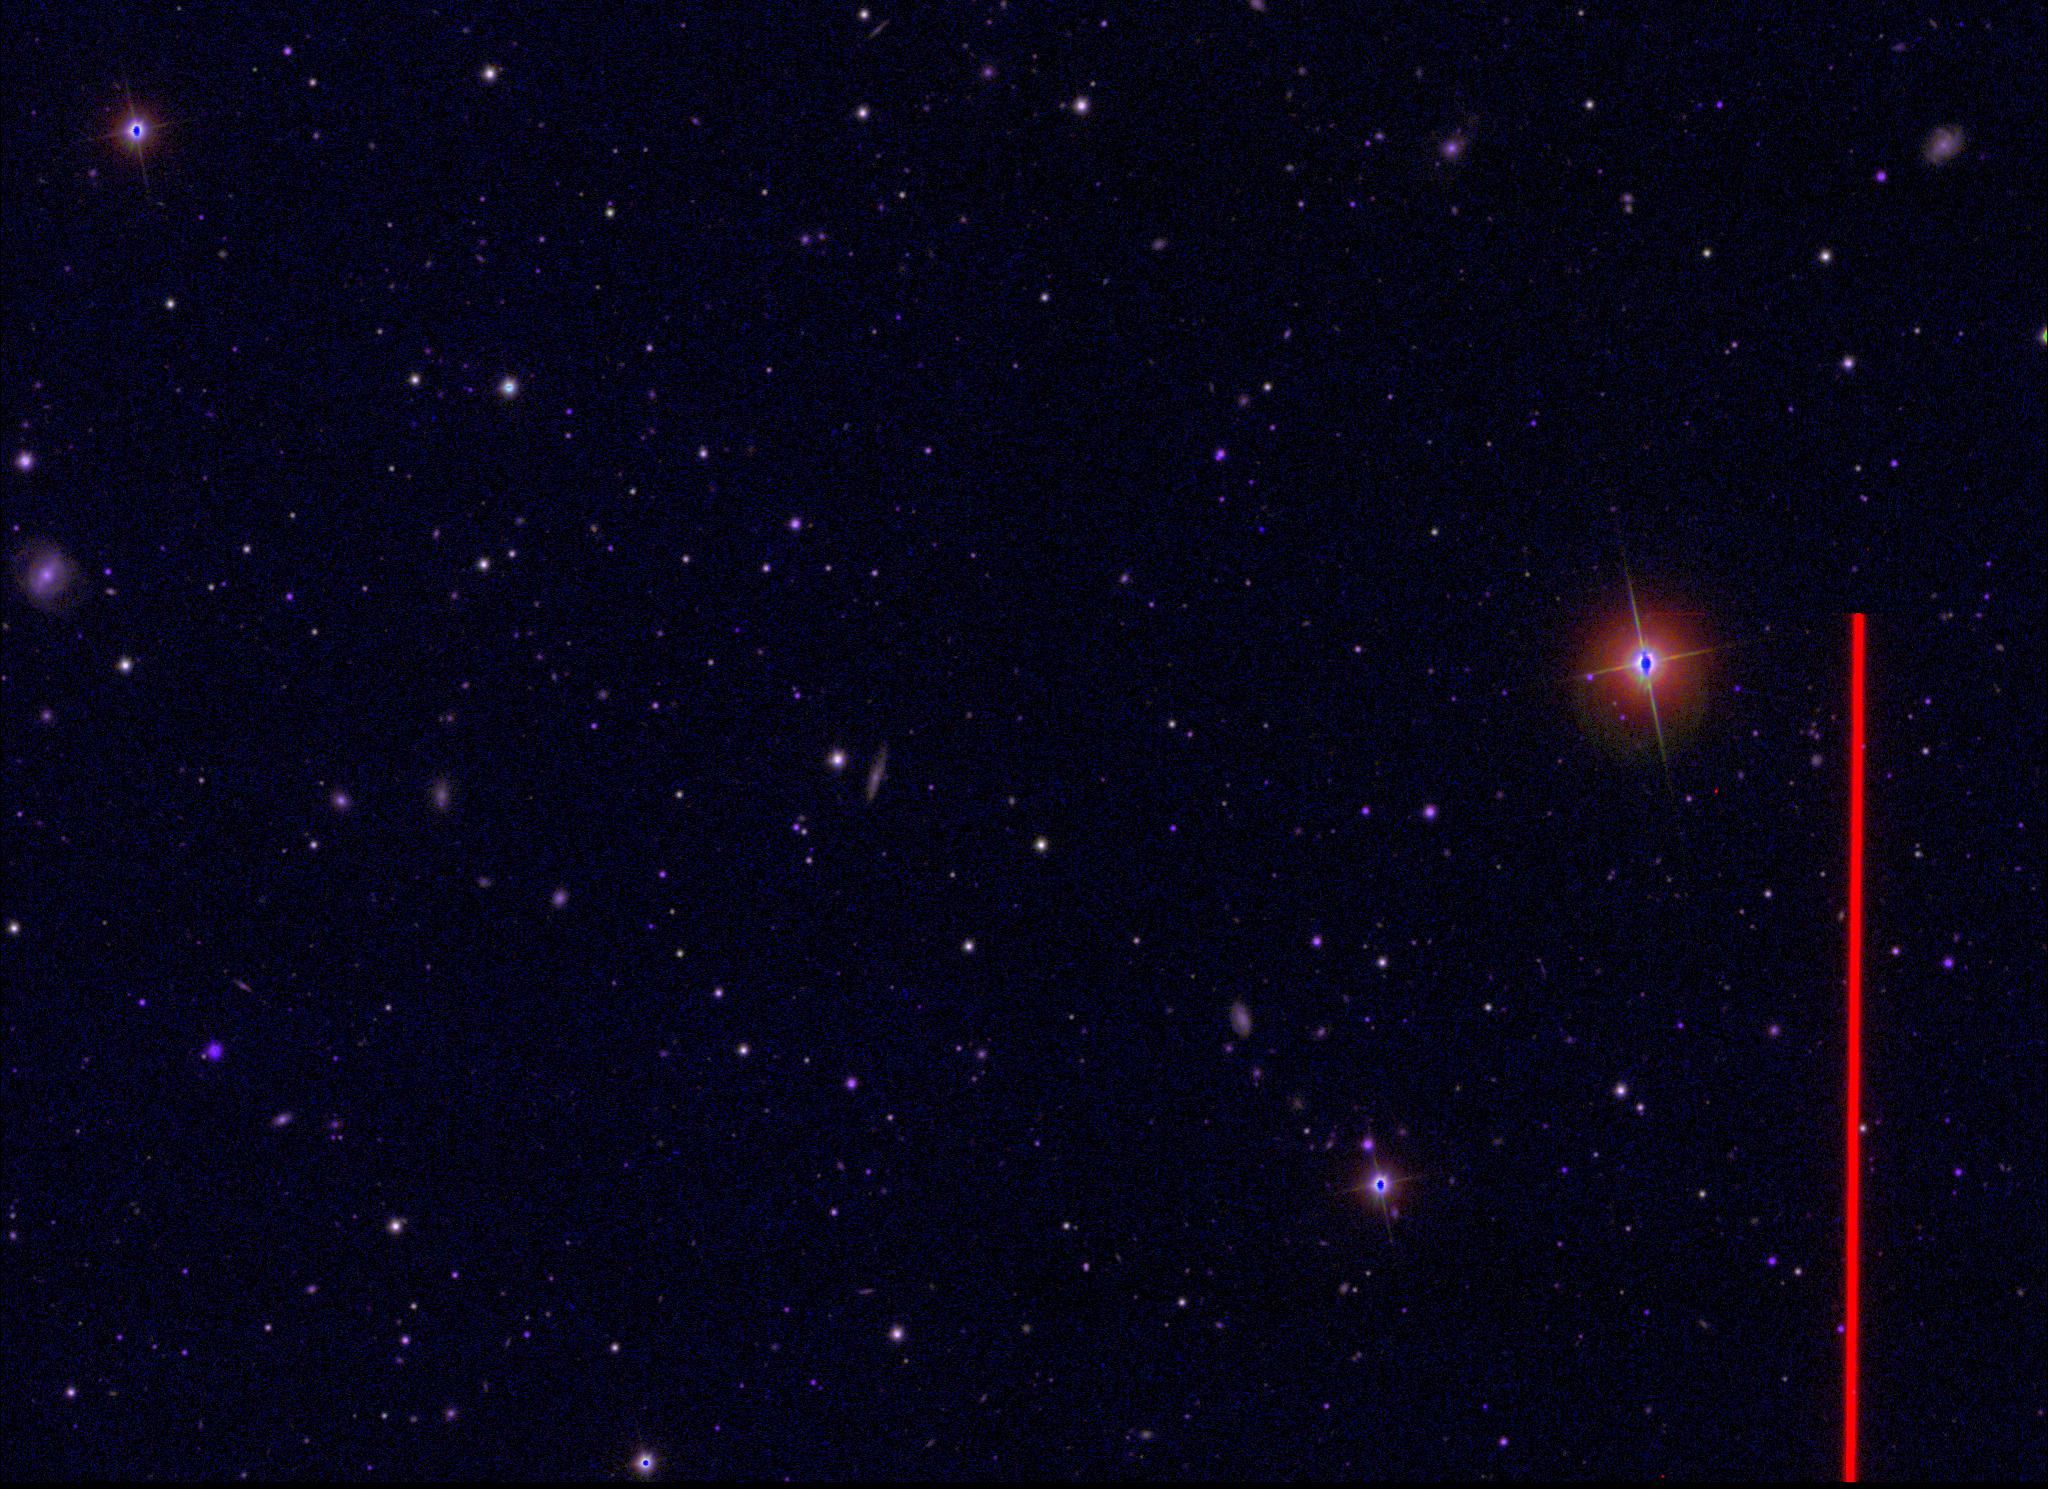L: (1255, 522, 1269, 536)
